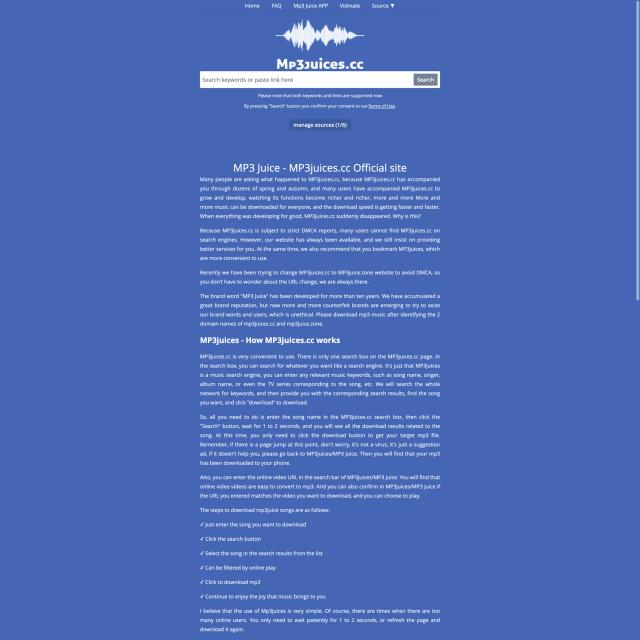input: (200, 71, 442, 88)
logo: (269, 20, 368, 71)
navigation: (200, 0, 440, 11)
